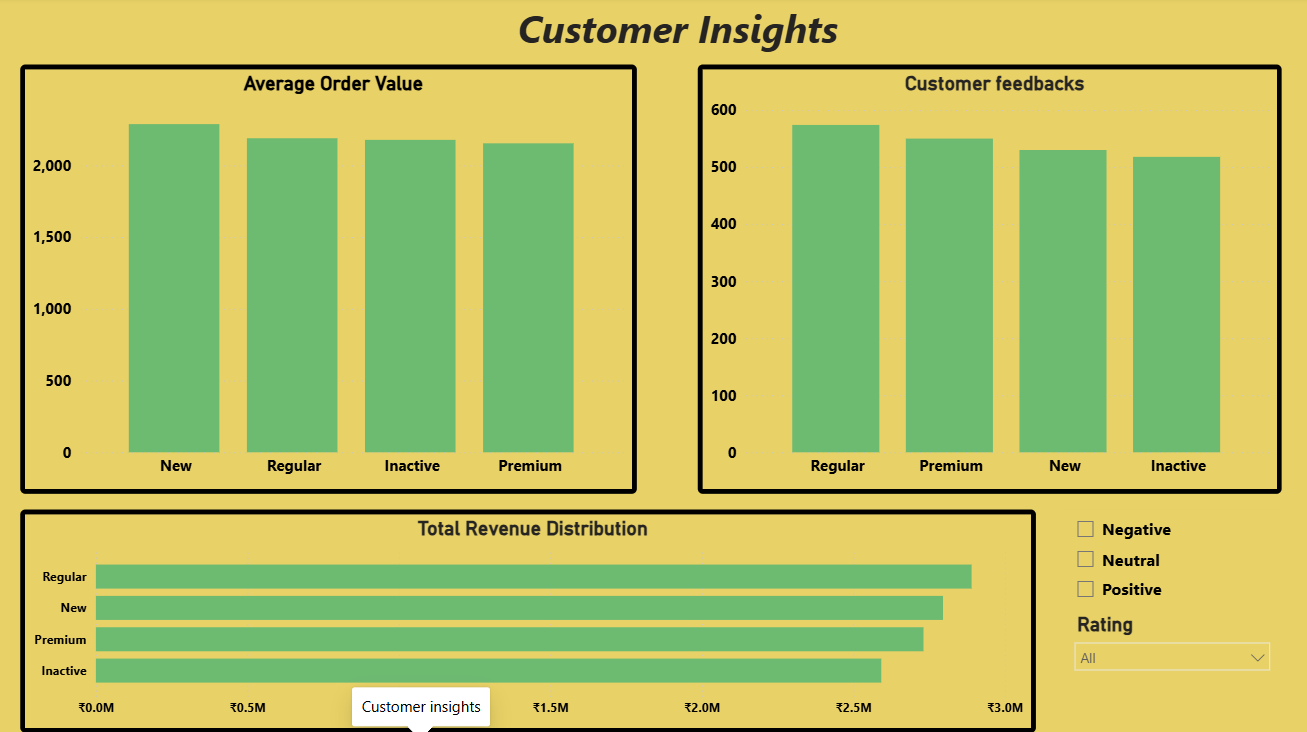

Layout of this report page (visuals, bound fields, positions):
{"tool":"powerbi","page":{"name":"Customer insights","canvas":[1280,720],"ordinal":1},"visuals":[{"type":"textbox","box":[347.5,0,633.9,66.1],"z":0},{"type":"columnChart","title":"Average Order Value","fields":{"Y":["blinkit_orders.Avg order value"],"Category":["blinkit_customers.customer_segment"]},"box":[20.3,66.1,603.4,420.3],"z":1000},{"type":"clusteredBarChart","title":"Total Revenue Distribution","fields":{"Category":["blinkit_customers.customer_segment"],"Y":["blinkit_orders.Total revenue"]},"box":[20.3,501.7,993.2,218.6],"z":2000},{"type":"clusteredColumnChart","title":"Customer feedbacks","fields":{"Category":["blinkit_customers.customer_segment"],"Y":["blinkit_customer_feedback.Customers Who Left Feedback"]},"box":[683.1,66.1,571.2,420.3],"z":3000},{"type":"slicer","fields":{"Values":["blinkit_customer_feedback.sentiment"]},"box":[1042.4,501.7,211.9,96.6],"z":4000},{"type":"slicer","fields":{"Values":["blinkit_customer_feedback.rating"]},"box":[1042.4,598.3,211.9,103.4],"z":5000}]}

Visuals, with their boxes in screenshot pixels (x1, y1, x2, y2):
textbox: <region>348, 0, 984, 66</region>
"Average Order Value" columnChart: <region>20, 66, 625, 488</region>
"Total Revenue Distribution" clusteredBarChart: <region>20, 503, 1016, 722</region>
"Customer feedbacks" clusteredColumnChart: <region>685, 66, 1257, 488</region>
slicer - blinkit_customer_feedback.sentiment: <region>1045, 503, 1257, 600</region>
slicer - blinkit_customer_feedback.rating: <region>1045, 600, 1257, 703</region>
